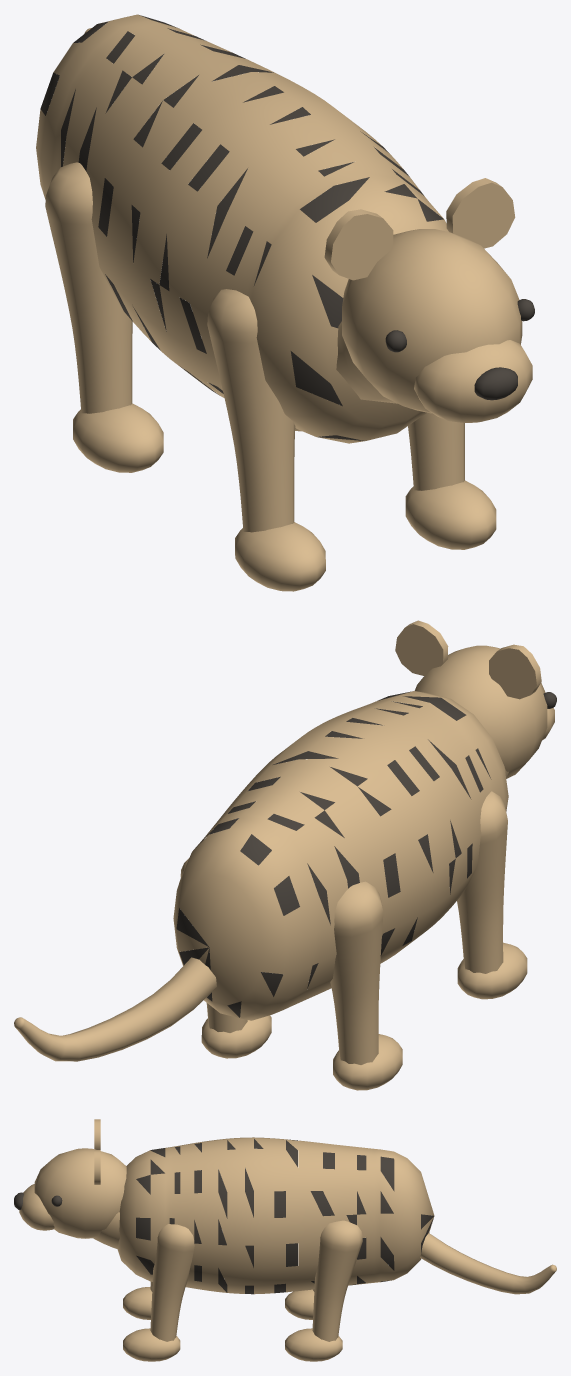
Rendered from rainforest-and-jungle-fauna-jaguar-ce7a5aac__21667.glb.
The picture shows the model from 3 angles, top to bottom: view 1: azimuth 30°, elevation 25°; view 2: azimuth 150°, elevation 25°; view 3: azimuth 270°, elevation 25°; orthographic projection. The views are drawn at different scales.
Parts seen in each view (by area): view 1: jaguar; view 2: jaguar; view 3: jaguar.
Part boxes in pixels (<box>): jaguar: <box>36,14,534,591</box>; jaguar: <box>14,620,556,1090</box>; jaguar: <box>14,1119,556,1361</box>.
Bounding box in the file's own units: 0.5518 × 0.8232 × 2.
